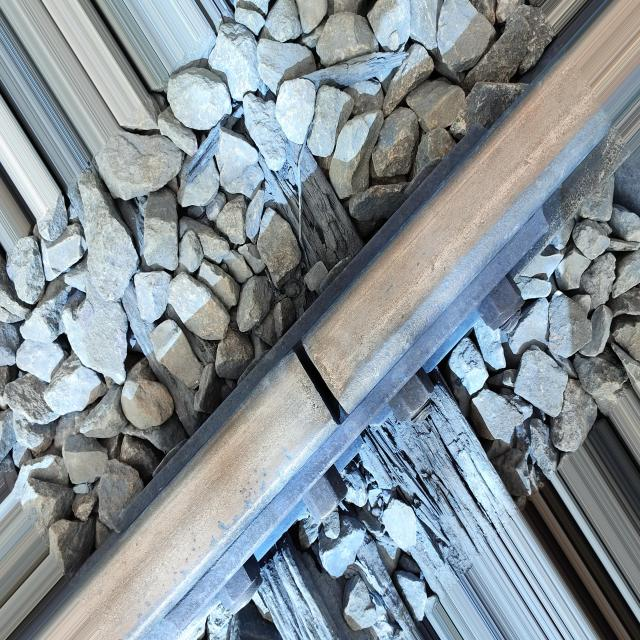crack: (275, 332, 366, 436)
